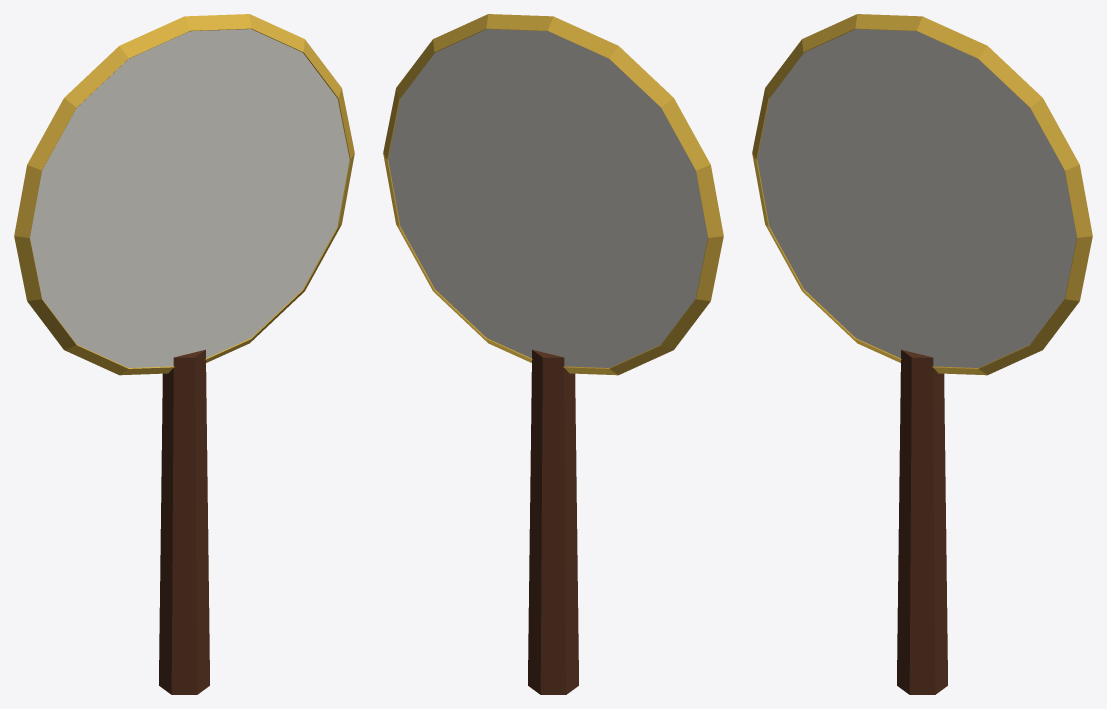
The model's file is auction_paddle.glb.
3 renders of one model, left to right at view 1: azimuth 30°, elevation 25°; view 2: azimuth 150°, elevation 25°; view 3: azimuth 330°, elevation 25°, orthographic.
Visible parts, largest first — view 1: paddle_paddle_white, handle_auction_wood, rim_auction_gold; view 2: paddle_paddle_white, handle_auction_wood, rim_auction_gold; view 3: paddle_paddle_white, handle_auction_wood, rim_auction_gold.
Boxes of the visible parts, box(x1,y1,x2,y2) form: paddle_paddle_white: box(30, 29, 349, 367); handle_auction_wood: box(159, 349, 209, 694); rim_auction_gold: box(14, 14, 354, 375); paddle_paddle_white: box(388, 29, 707, 367); handle_auction_wood: box(528, 349, 578, 694); rim_auction_gold: box(383, 14, 723, 375); paddle_paddle_white: box(757, 29, 1076, 367); handle_auction_wood: box(897, 349, 947, 694); rim_auction_gold: box(752, 14, 1092, 375).
Size of the model in its own units: 0.276 by 0.518 by 0.036.
